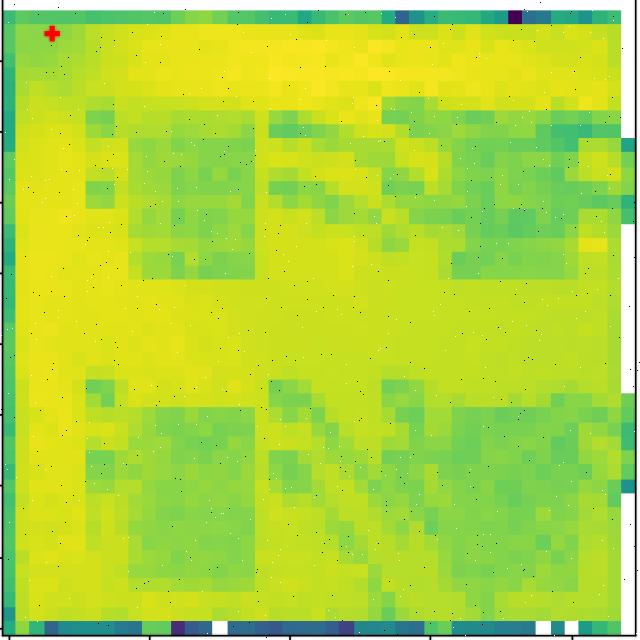Concrete: (124, 112, 259, 281)
Glass: (129, 407, 255, 591)
Metal: (447, 110, 577, 280)
Wood: (454, 406, 574, 588)
